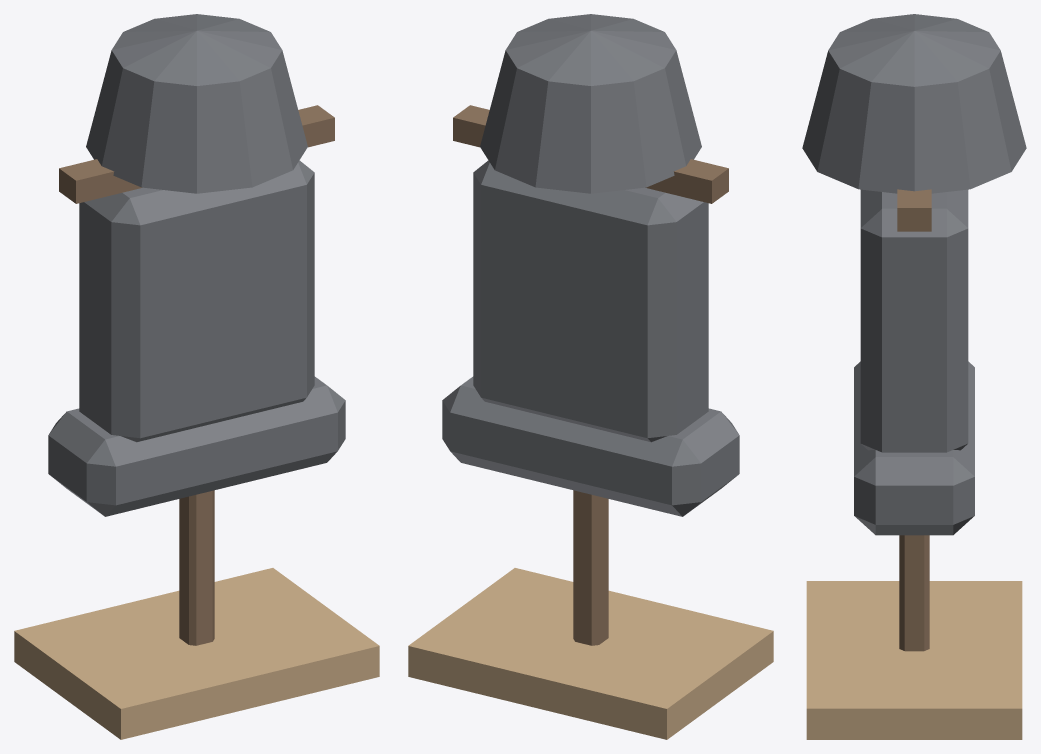
File: feudal-japan-castle-town-armour-stand-ac904bbf__26427.glb
The picture shows the model from 3 angles, left to right: view 1: azimuth 30°, elevation 25°; view 2: azimuth 150°, elevation 25°; view 3: azimuth 270°, elevation 25°; orthographic projection.
Parts seen in each view (by area): view 1: armour-stand; view 2: armour-stand; view 3: armour-stand.
Boxes of the visible parts, x1,y1,x2,y2 form: armour-stand: (14,14,379,739); armour-stand: (408,14,773,739); armour-stand: (802,14,1026,739).
Bounding box in the file's own units: 0.7 × 1.65 × 0.52.
